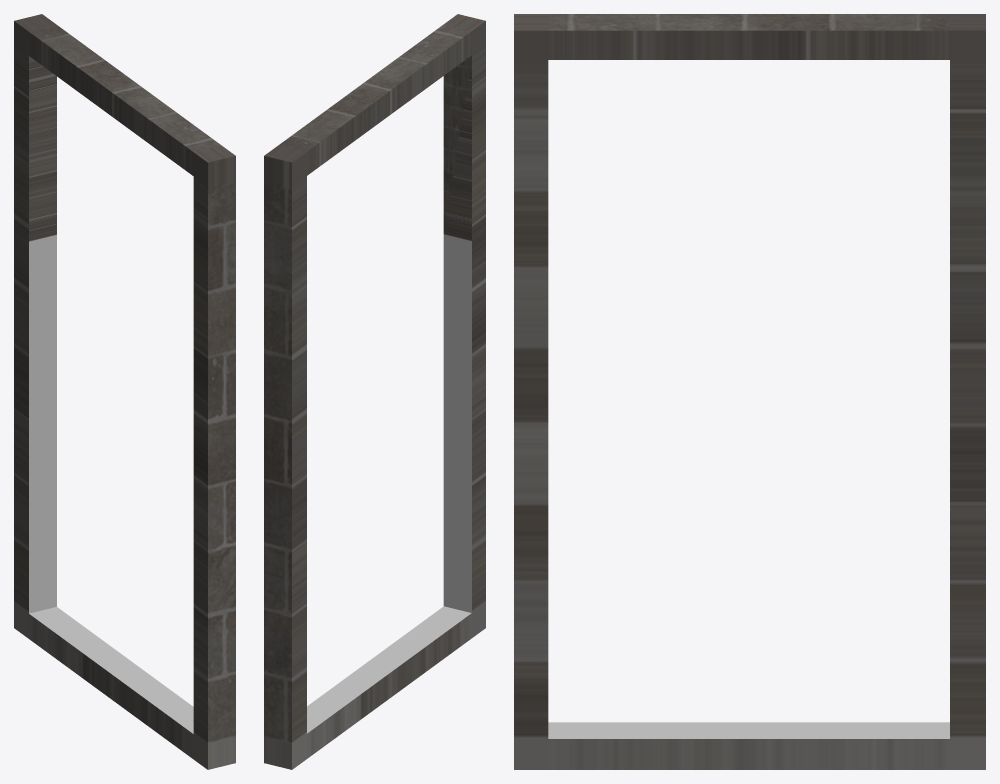
The model's file is frame.obj.
The picture shows the model from 3 angles, left to right: view 1: azimuth 30°, elevation 25°; view 2: azimuth 150°, elevation 25°; view 3: azimuth 270°, elevation 25°; orthographic projection. The views are drawn at different scales.
Visible parts, largest first — view 1: Frame.001; view 2: Frame.001; view 3: Frame.001.
Part boxes in pixels (box(x1,y1,x2,y2)): Frame.001: box(14, 14, 235, 769); Frame.001: box(264, 14, 485, 769); Frame.001: box(514, 14, 985, 769).
Bounding box in the file's own units: 1.74 × 35.97 × 20.8.
2 materials, 1 textured.
